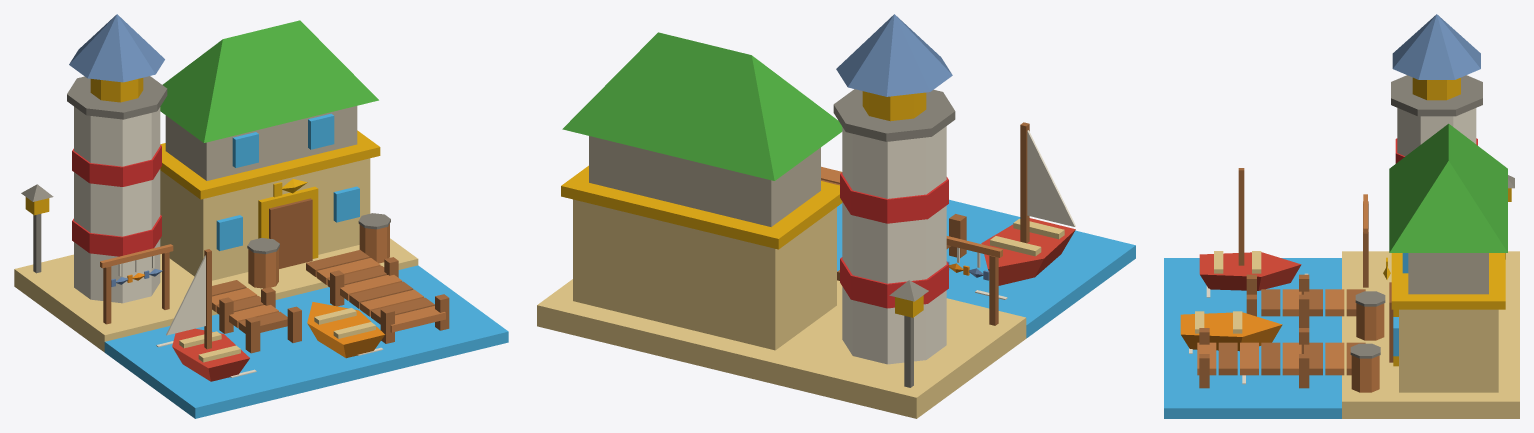
File: fishery_t3_v2.glb
The picture shows the model from 3 angles, left to right: view 1: azimuth 30°, elevation 25°; view 2: azimuth 150°, elevation 25°; view 3: azimuth 270°, elevation 25°; orthographic projection. The views are drawn at different scales.
Parts seen in each view (by area): view 1: fishery_t3_v2; view 2: fishery_t3_v2; view 3: fishery_t3_v2.
Part boxes in pixels (x1,y1,x2,y2): fishery_t3_v2: (14,14,508,418); fishery_t3_v2: (537,14,1135,418); fishery_t3_v2: (1164,14,1519,418).
Size of the model in its own units: 0.75 by 0.66 by 0.75.
1 material, 1 textured.
